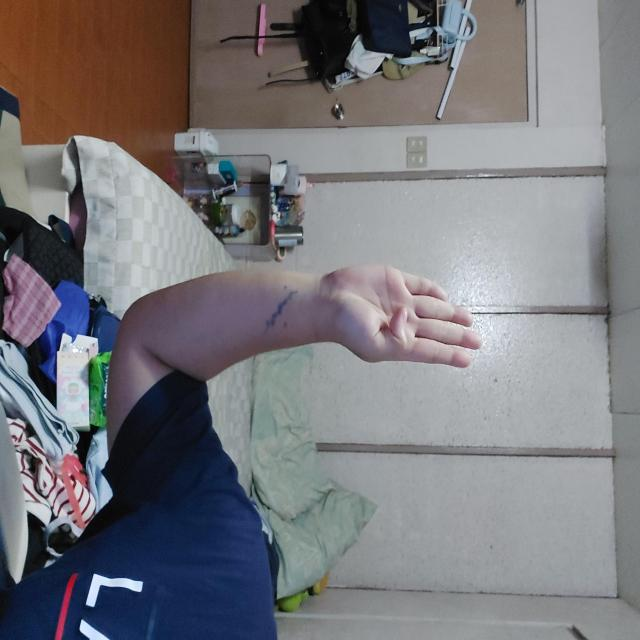B: (264, 157, 368, 319)
